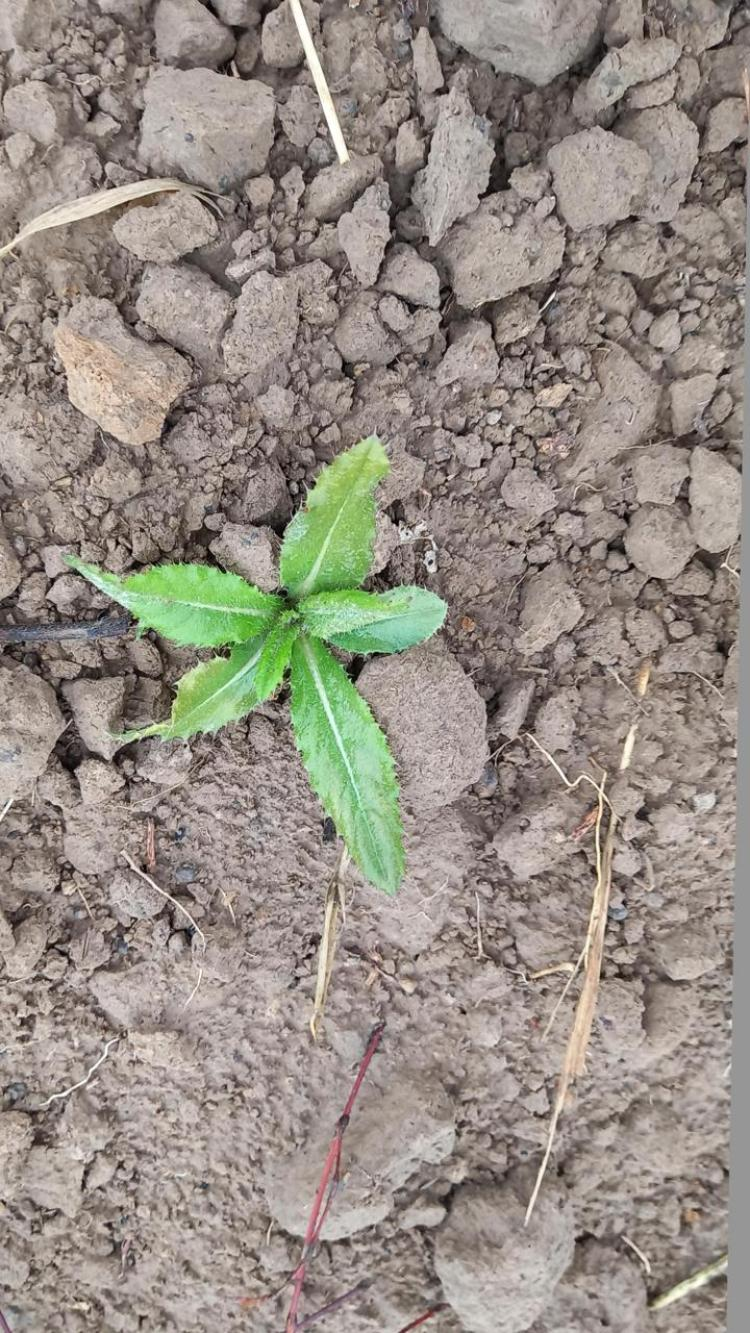bodyak: (65, 429, 450, 892)
